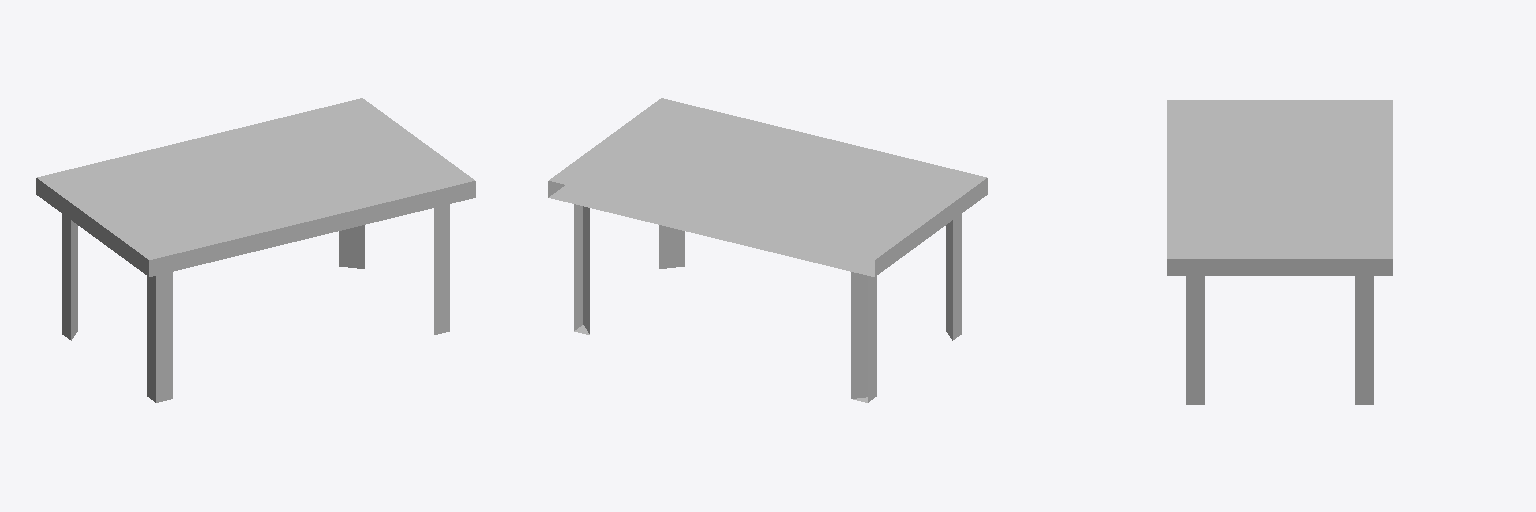
Rendered from wood_table.obj.
The picture shows the model from 3 angles: view 1: azimuth 30°, elevation 25°; view 2: azimuth 150°, elevation 25°; view 3: azimuth 270°, elevation 25°; orthographic projection.
Size of the model in its own units: 2 by 0.9 by 1.2.